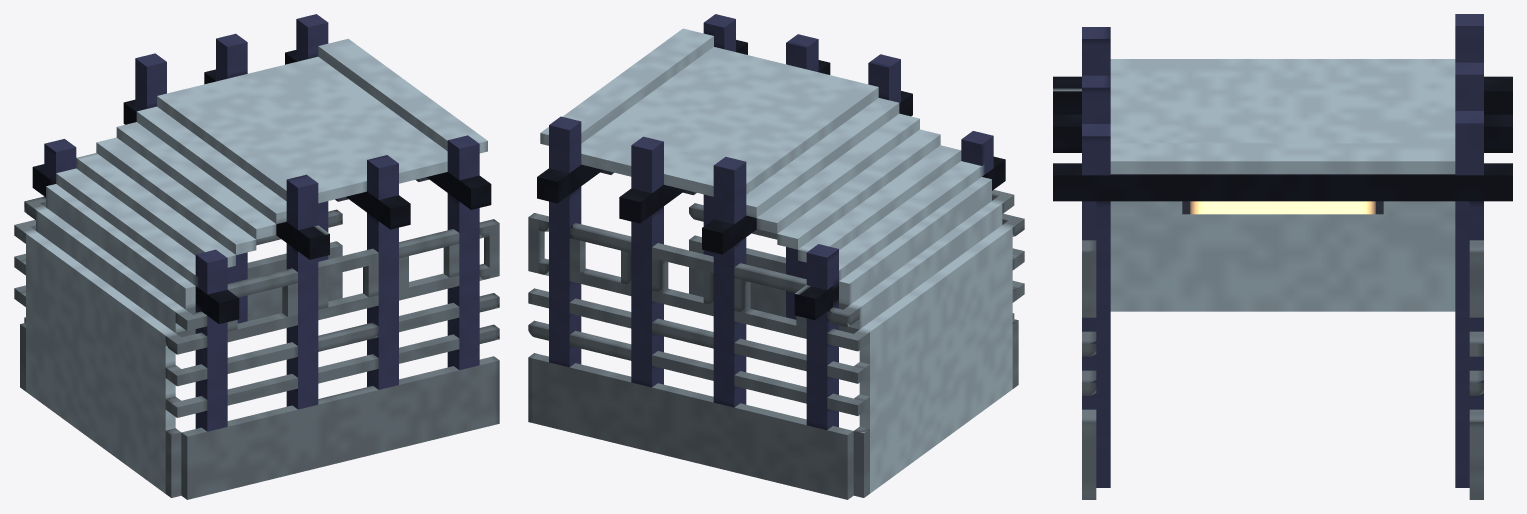
Rendered from wejscie_metro.dae.
The picture shows the model from 3 angles, left to right: view 1: azimuth 30°, elevation 25°; view 2: azimuth 150°, elevation 25°; view 3: azimuth 270°, elevation 25°; orthographic projection. The views are drawn at different scales.
Visible parts, largest first — view 1: Content; view 2: Content; view 3: Content.
Boxes of the visible parts, x1,y1,x2,y2 form: Content: (14, 14, 499, 499); Content: (528, 14, 1024, 499); Content: (1053, 14, 1512, 499).
Bounding box in the file's own units: 32 × 28 × 32.
Materials: 1 (1 with a texture image).
